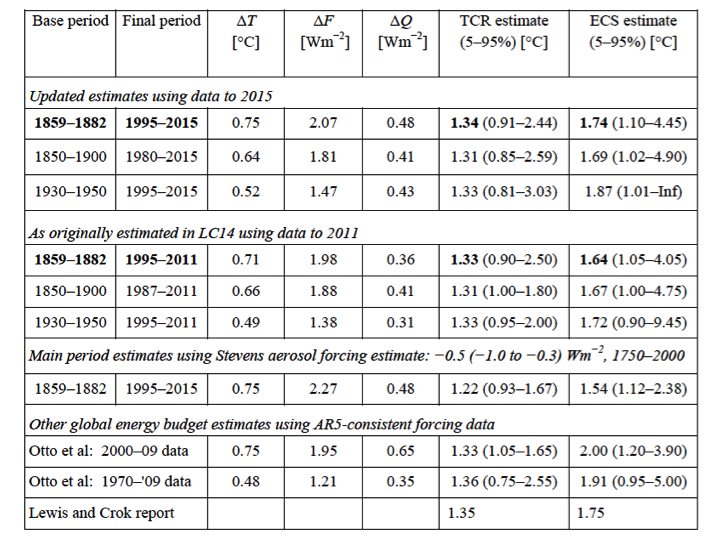fracking table: (20, 7, 701, 532)
